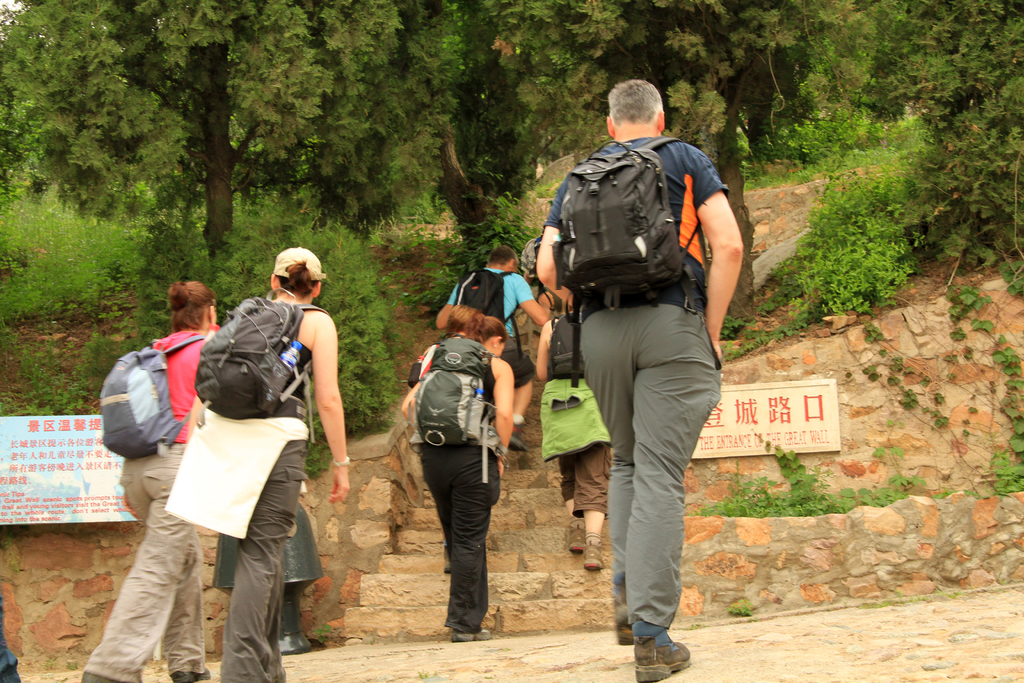Footwear: (636, 625, 691, 679), (83, 667, 120, 681), (616, 621, 635, 645), (585, 545, 604, 568), (172, 670, 207, 682), (570, 529, 582, 555), (454, 632, 475, 641), (475, 627, 492, 635)
